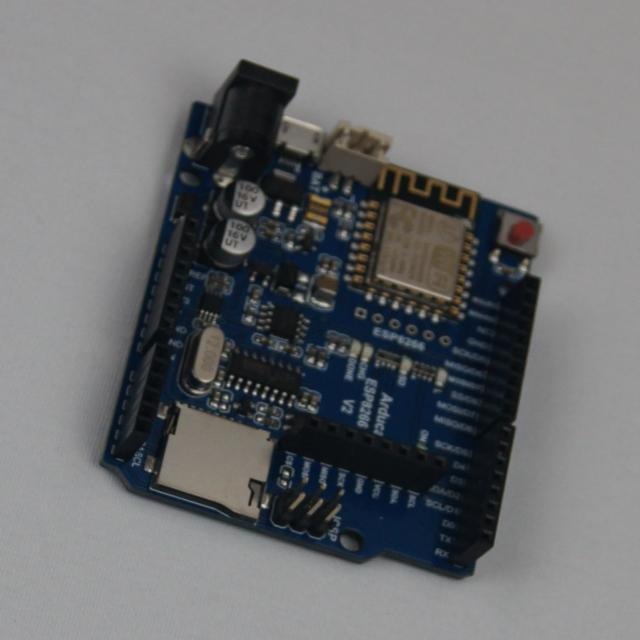Arduino Uno Camera Shield: (105, 62, 540, 576)
